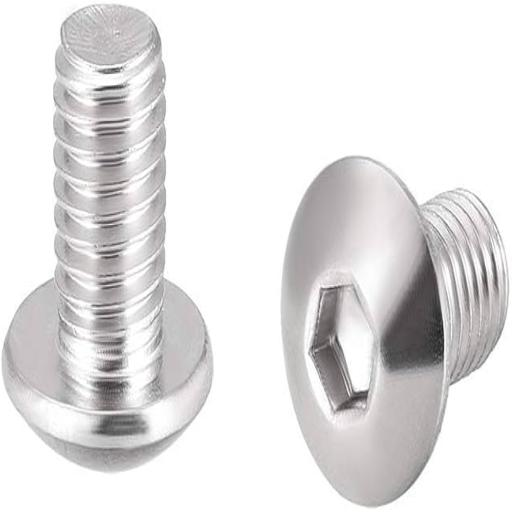Hex-Allen: (280, 152, 446, 506)
